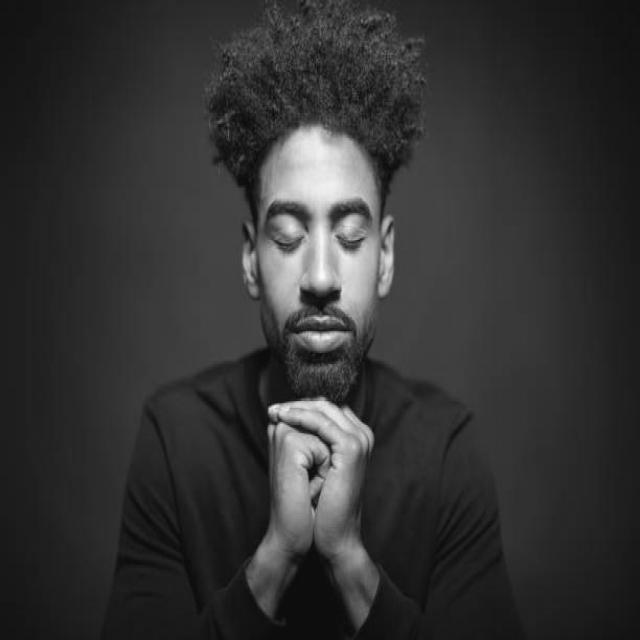real: (242, 128, 395, 396), (260, 189, 382, 261)
